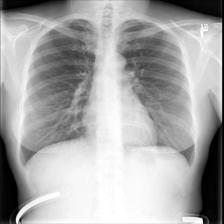normal: (14, 12, 201, 172)
